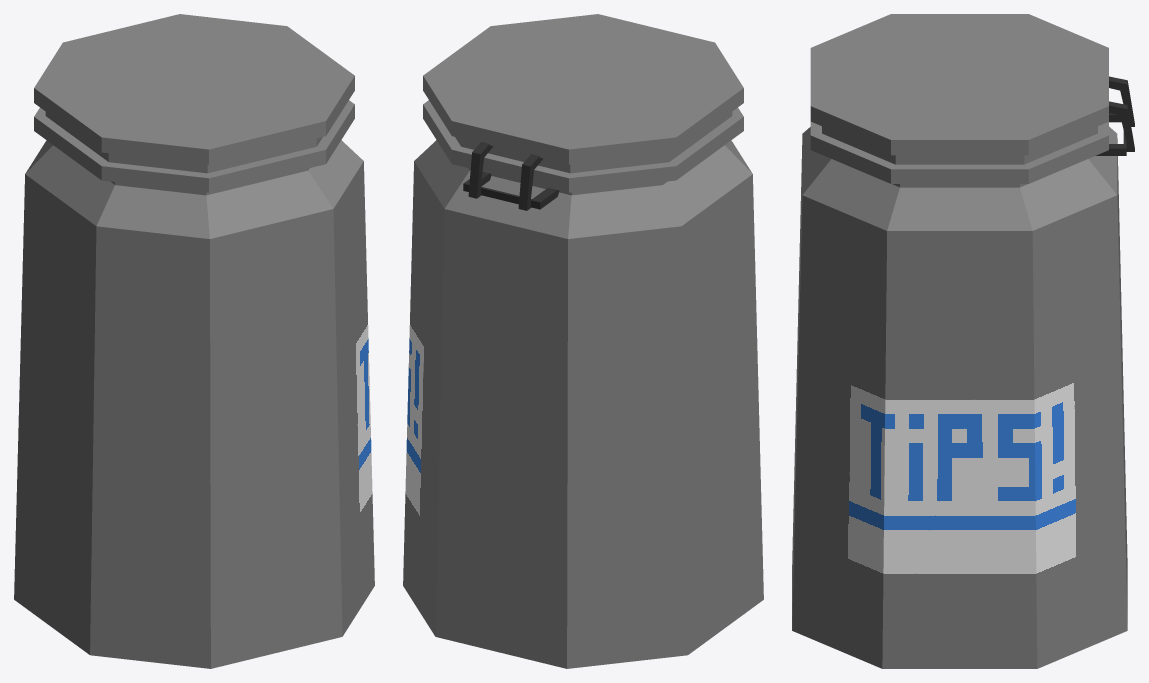
Rendered from Tip_Jar_half.fbx.
3 renders of one model, left to right at view 1: azimuth 30°, elevation 25°; view 2: azimuth 150°, elevation 25°; view 3: azimuth 270°, elevation 25°, orthographic.
Parts seen in each view (by area): view 1: Jar, lid; view 2: Jar, lid, Rim, Rim_2; view 3: Jar, lid, Rim.
Boxes of the visible parts, left/top/right/bottom form: Jar: left=14, top=140, right=374, bottom=668; lid: left=34, top=14, right=354, bottom=192; Jar: left=403, top=140, right=763, bottom=668; lid: left=423, top=14, right=743, bottom=192; Rim: left=468, top=142, right=543, bottom=210; Rim_2: left=463, top=172, right=559, bottom=209; Jar: left=792, top=126, right=1127, bottom=668; lid: left=810, top=14, right=1108, bottom=183; Rim: left=1109, top=76, right=1134, bottom=151.
Size of the model in its own units: 200 by 343 by 204.
Materials: 2 (2 with a texture image).
